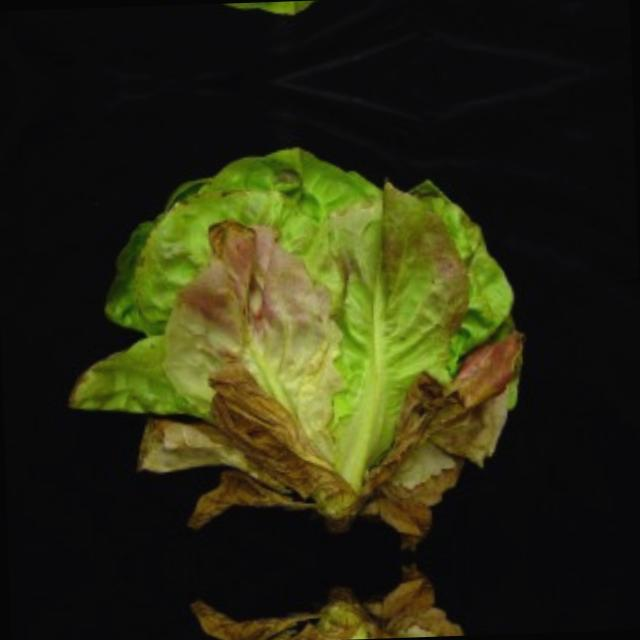Lettuce - Anthracnose: (58, 135, 548, 558), (72, 562, 551, 640), (52, 0, 529, 26)
